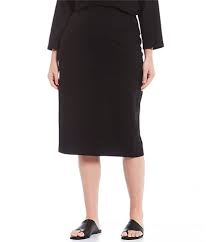F_tailored skirt: (49, 14, 152, 165)
